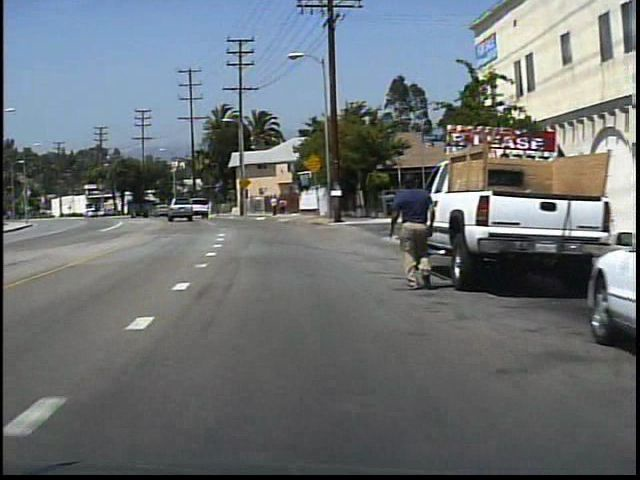person: (381, 167, 434, 291), (269, 195, 279, 219), (277, 197, 287, 217)
